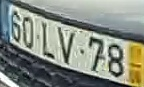0: (21, 15, 34, 49)
6: (9, 9, 21, 42)
7: (87, 34, 105, 73)
8: (106, 43, 124, 78)
L: (41, 19, 55, 61)
V: (55, 25, 76, 66)
